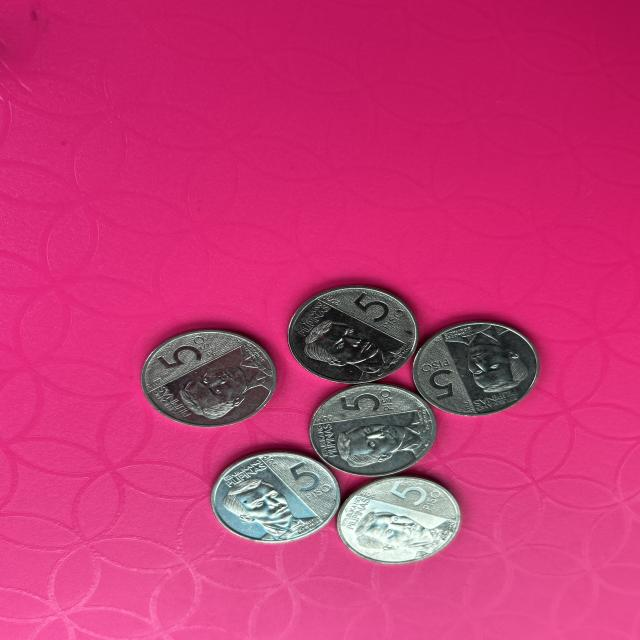5_New_Front: (374, 475, 451, 517), (349, 290, 411, 335), (282, 457, 330, 503), (416, 359, 467, 397), (337, 388, 399, 416), (157, 339, 217, 364)
